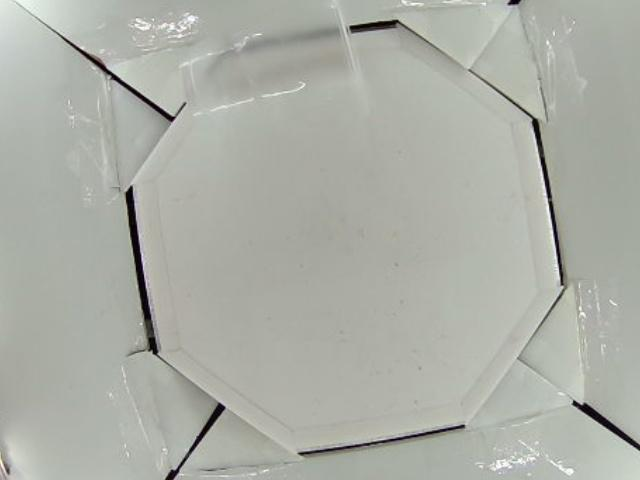Cup: (181, 5, 370, 138)
